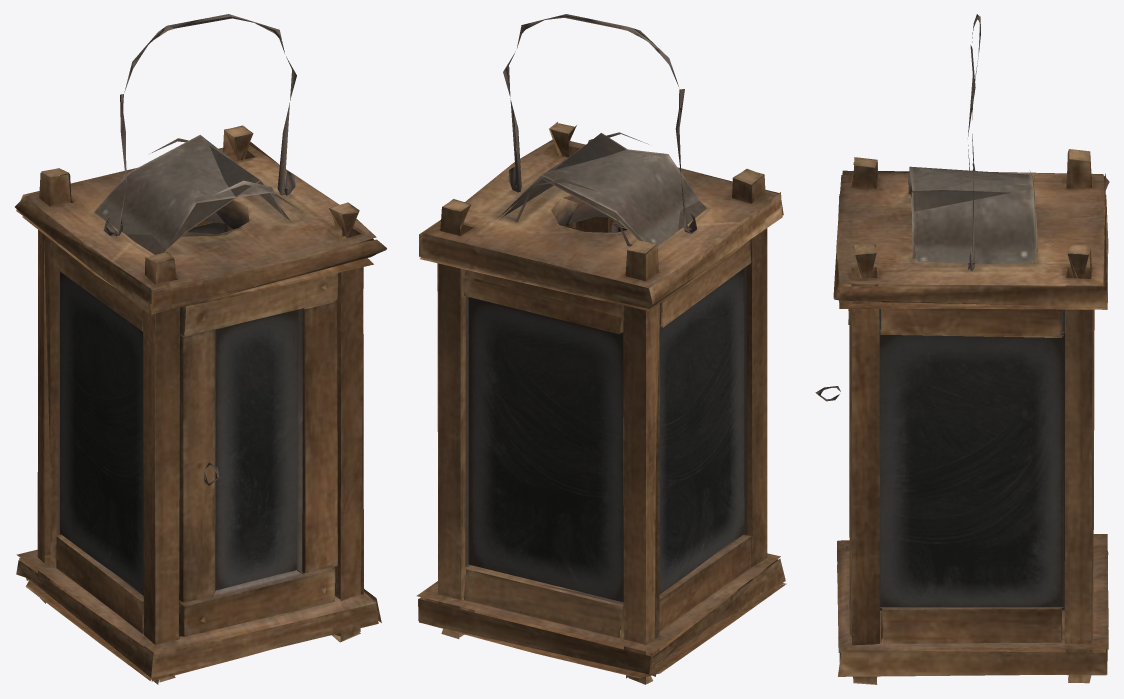
The model's file is wooden_lantern_01_1k.gltf.lod.glb.
The picture shows the model from 3 angles, left to right: view 1: azimuth 30°, elevation 25°; view 2: azimuth 150°, elevation 25°; view 3: azimuth 270°, elevation 25°; orthographic projection.
Visible parts, largest first — view 1: wooden_lantern_01, wooden_lantern_01_door, wooden_lantern_01_handle; view 2: wooden_lantern_01, wooden_lantern_01_handle, wooden_lantern_01_door; view 3: wooden_lantern_01, wooden_lantern_01_handle, wooden_lantern_01_door.
Boxes of the visible parts, x1,y1,x2,y2 form: wooden_lantern_01: (15,125,386,684); wooden_lantern_01_door: (179,266,338,636); wooden_lantern_01_handle: (103,14,296,236); wooden_lantern_01: (417,122,786,684); wooden_lantern_01_handle: (503,14,696,233); wooden_lantern_01_door: (576,216,661,312); wooden_lantern_01: (833,149,1109,684); wooden_lantern_01_handle: (967,14,980,270); wooden_lantern_01_door: (815,309,850,611).
Size of the model in its own units: 0.2189 by 0.5284 by 0.2328.
Materials: 2 (2 with a texture image).
